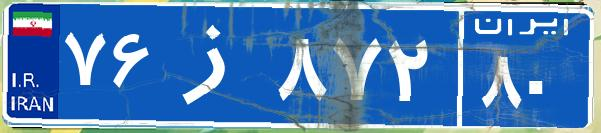0: (525, 38, 570, 115)
2: (385, 28, 445, 110)
6: (110, 28, 158, 105)
7: (330, 28, 385, 110), (57, 26, 110, 107)
8: (273, 28, 330, 110), (475, 38, 525, 113)
ز: (158, 15, 273, 115)
